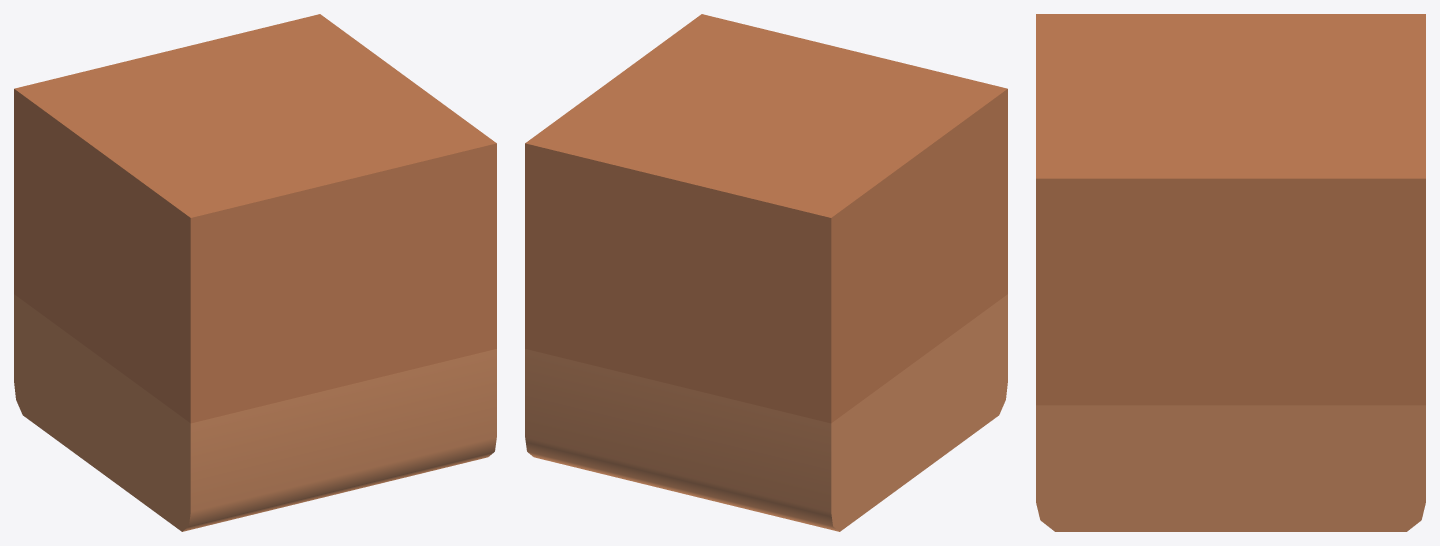
Rendered from 01_normal_botton_center.glb.
3 views of the same model, side by side, from view 1: azimuth 30°, elevation 25°; view 2: azimuth 150°, elevation 25°; view 3: azimuth 270°, elevation 25° (orthographic). The views are drawn at different scales.
Visible parts, largest first — view 1: 01_normal_botton_center; view 2: 01_normal_botton_center; view 3: 01_normal_botton_center.
Part boxes in pixels (x1,y1,x2,y2): 01_normal_botton_center: (14, 14, 496, 531); 01_normal_botton_center: (525, 14, 1007, 531); 01_normal_botton_center: (1036, 14, 1425, 531).
Bounding box in the file's own units: 0.5 × 0.5 × 0.5.
